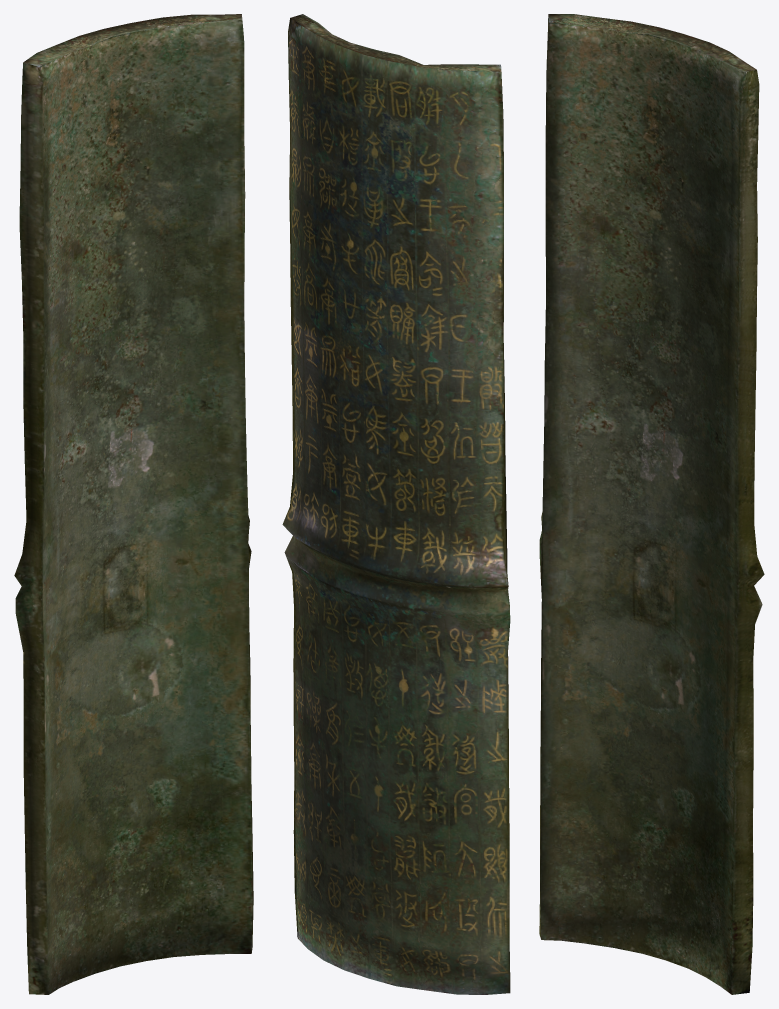
The picture shows the model from 3 angles, left to right: view 1: azimuth 30°, elevation 25°; view 2: azimuth 150°, elevation 25°; view 3: azimuth 330°, elevation 25°; orthographic projection.
Visible parts, largest first — view 1: jinjie; view 2: jinjie; view 3: jinjie.
Part boxes in pixels (box(x1,y1,x2,y2)): jinjie: box(14, 14, 253, 994); jinjie: box(282, 14, 510, 994); jinjie: box(539, 14, 764, 994).
Size of the model in its own units: 76.24 by 294 by 23.74.
